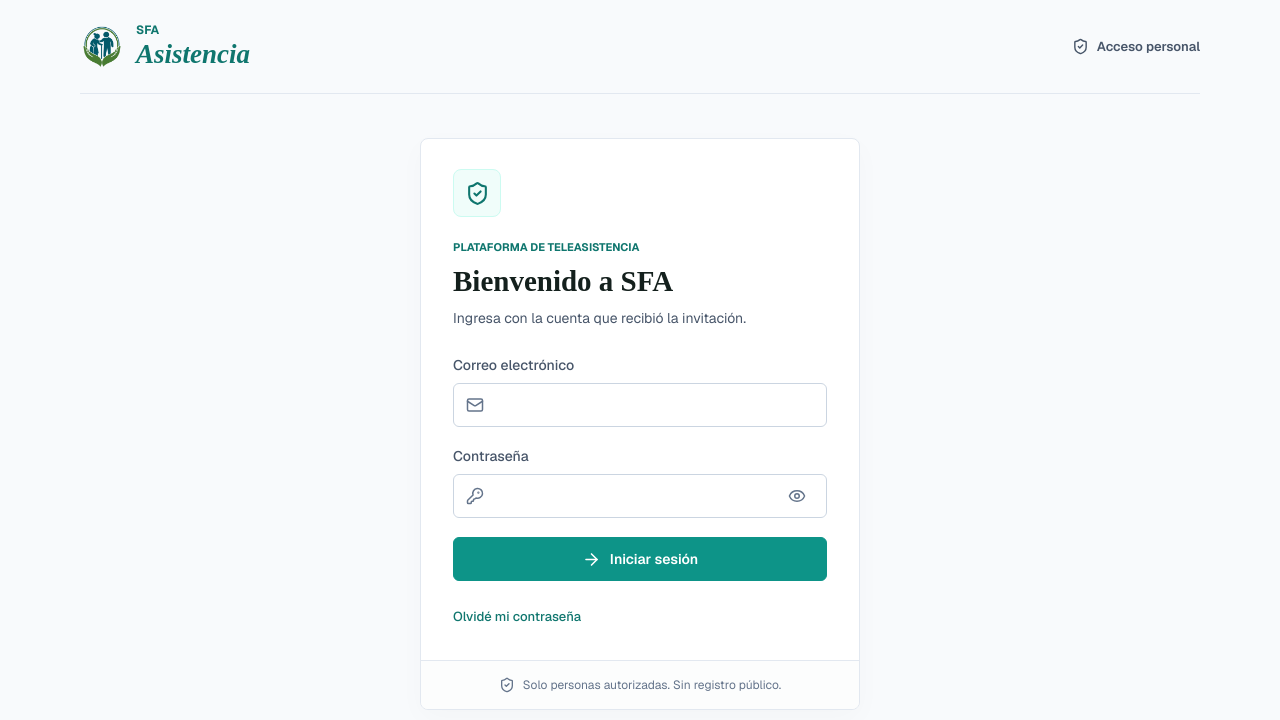
Scenario: SFA access screen › submits credentials only through the auth adapter and sanitizes errors
Type "test@example.invalid" into the field labelled "Correo electrónico" at (654, 405), box [494,384,814,426]
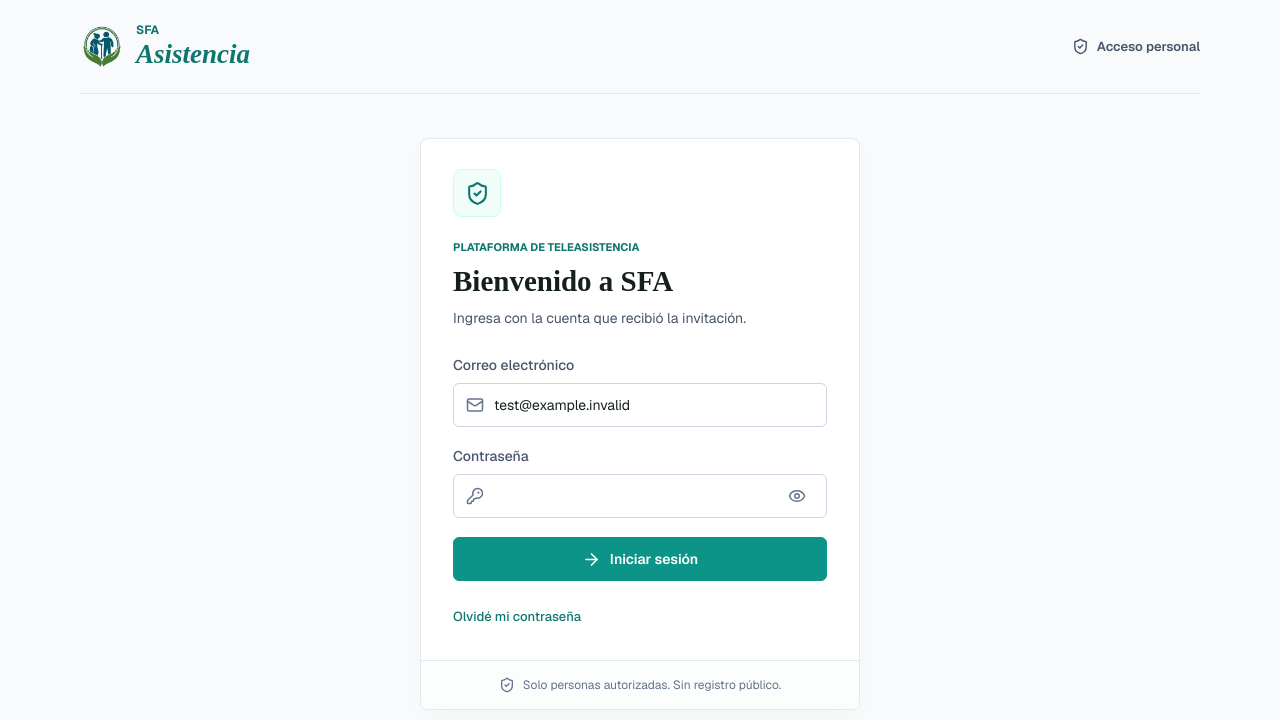
Type "test-password-value" into the password field labelled "Contraseña" at (632, 496), box [494,475,770,517]
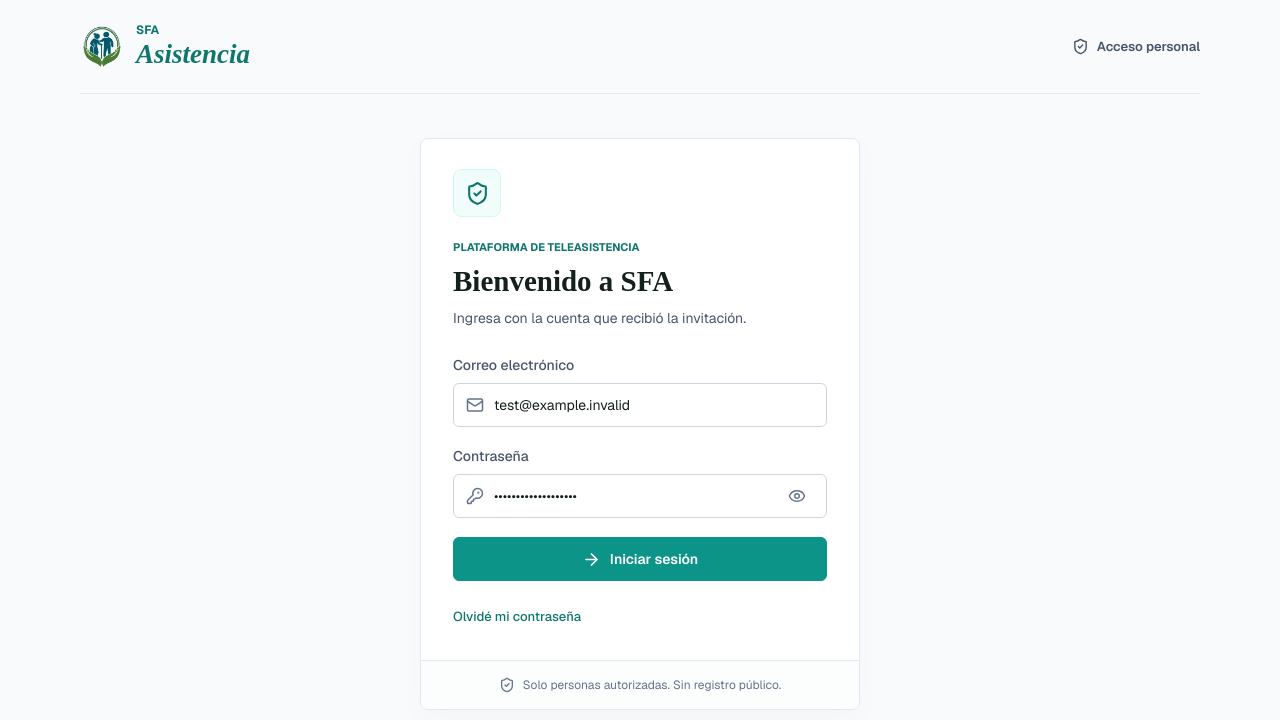
Click the button "Iniciar sesión" at (640, 559), box [453,537,827,581]
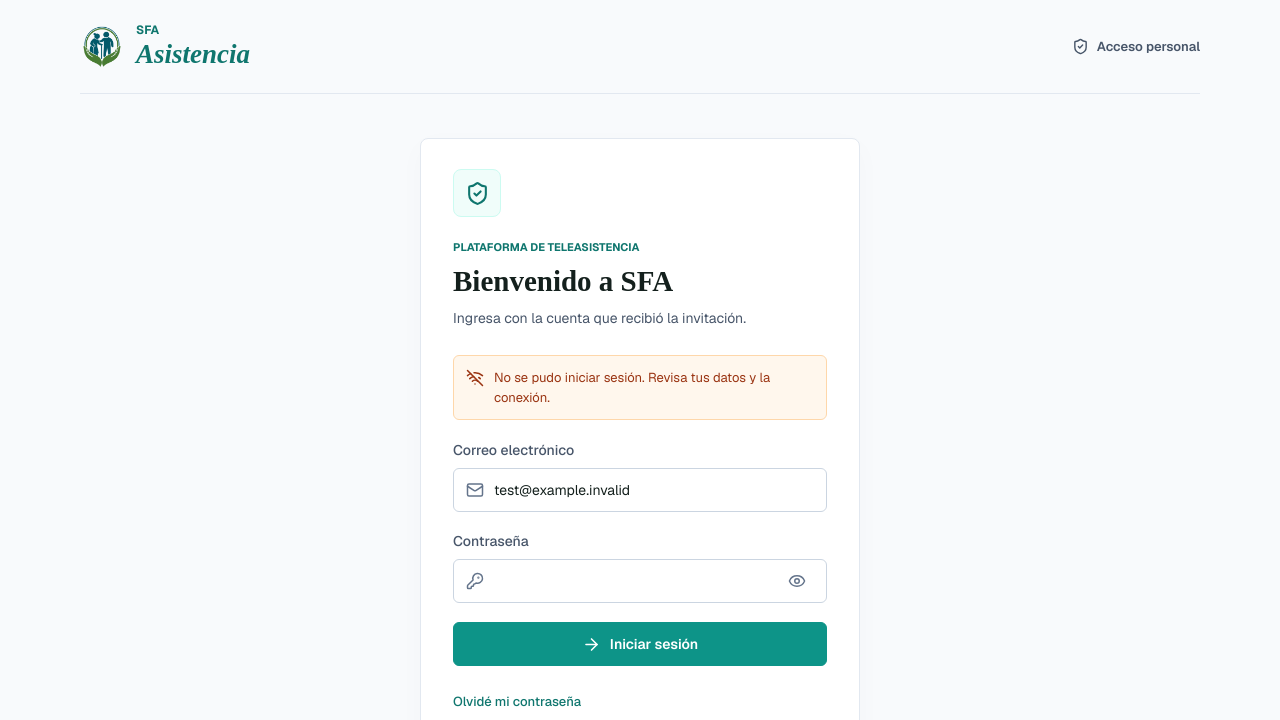
Expected: the message "No se pudo iniciar sesión. Revisa tus datos y la conexión." is shown, [453,355,827,420]
Expected: the password field labelled "Contraseña" is empty, [494,560,770,602]
